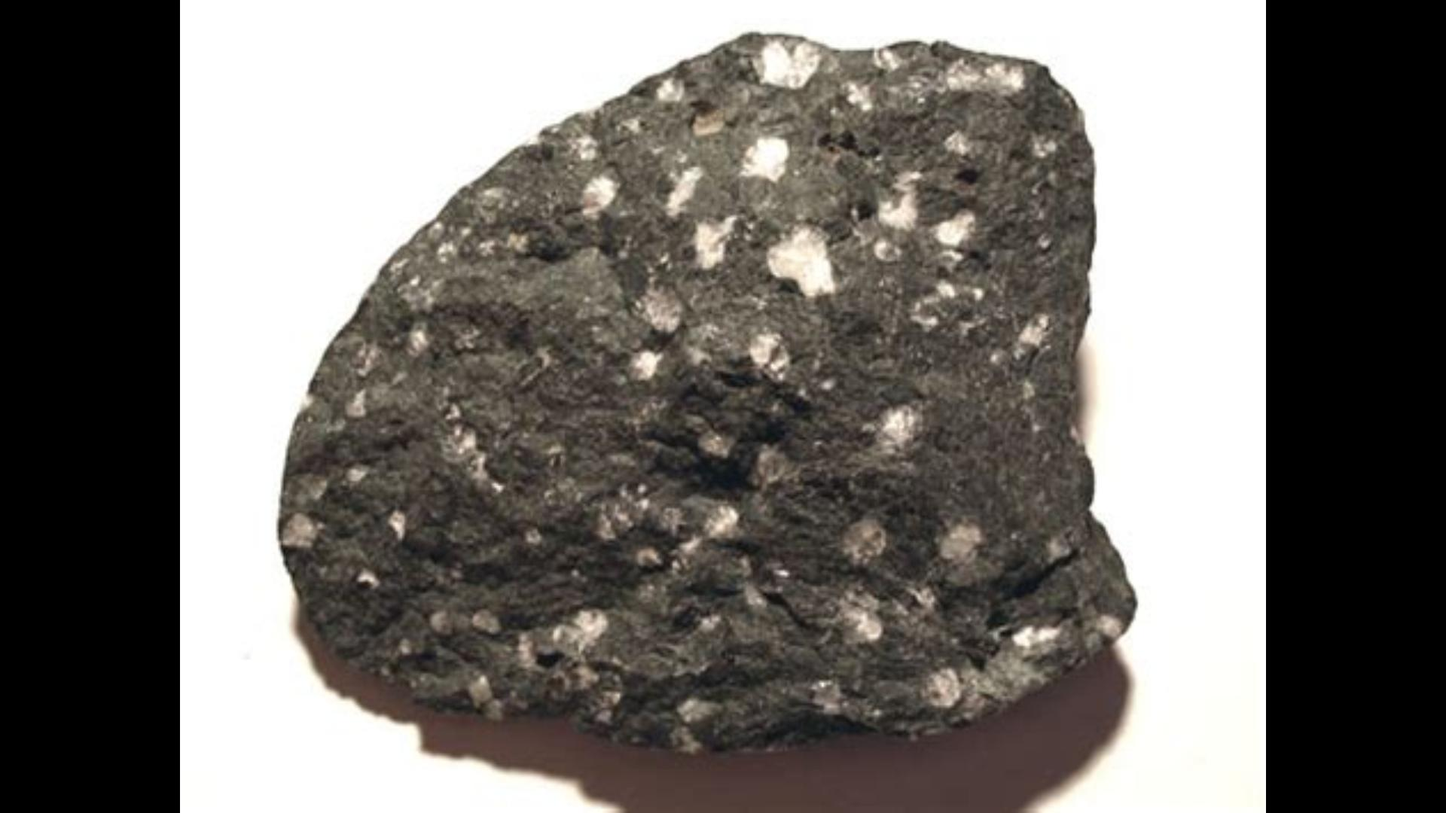rock: (279, 34, 1133, 749)
